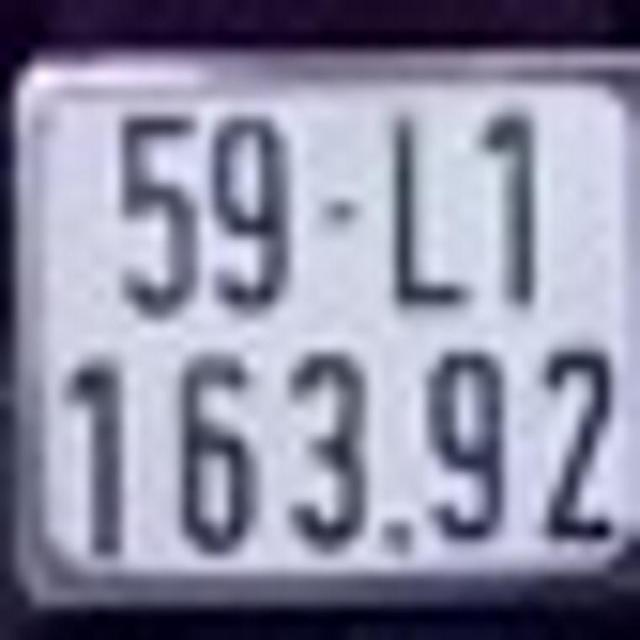1: (61, 346, 132, 561), (479, 100, 548, 302)
2: (538, 343, 618, 540)
3: (284, 342, 375, 552)
5: (110, 109, 204, 318)
6: (168, 334, 258, 556)
9: (414, 343, 508, 548), (207, 103, 290, 314)
L: (385, 108, 475, 310)
